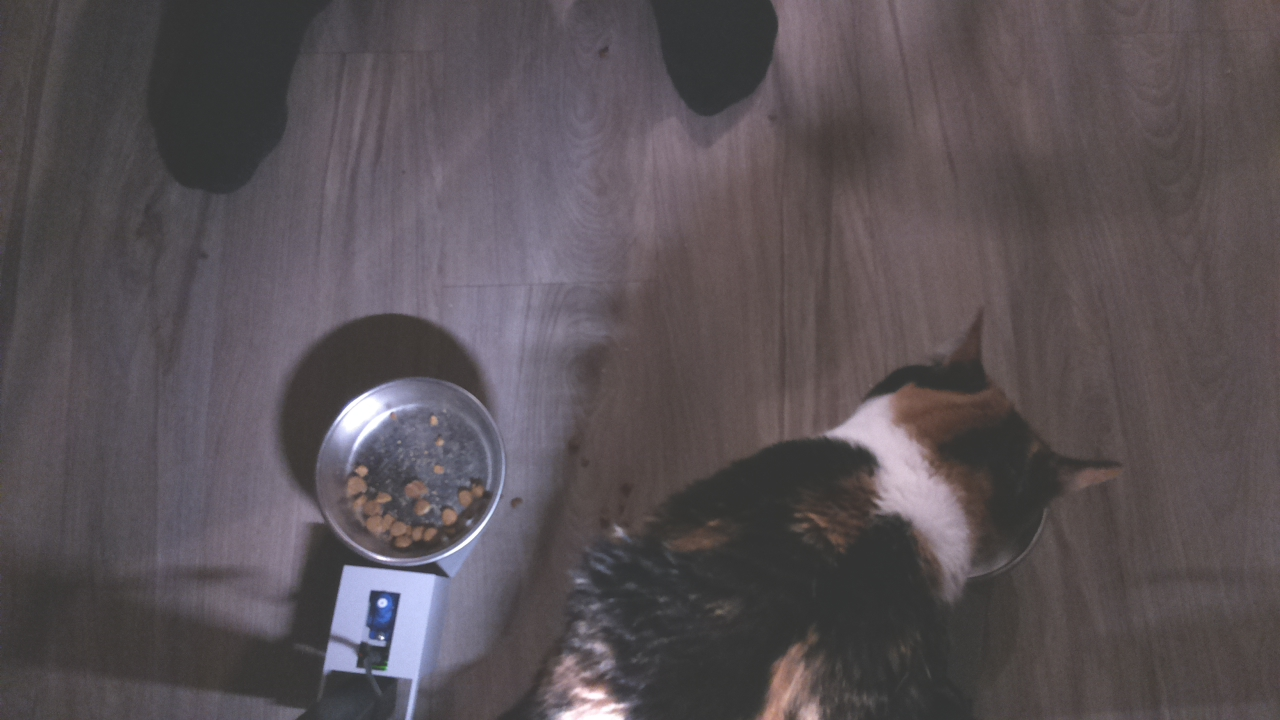bella_eating: (813, 296, 1136, 599)
open_bowl: (314, 373, 508, 569)
